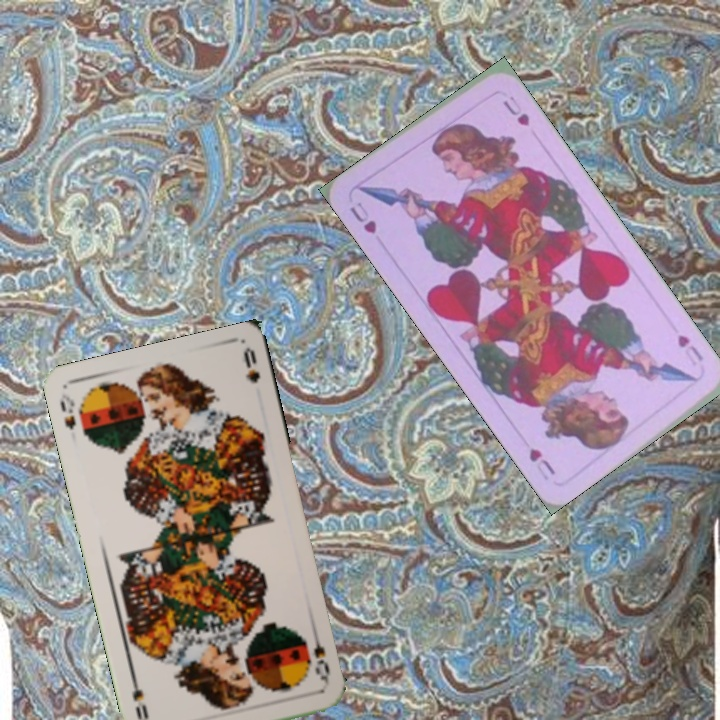HU: (345, 198, 380, 236), (673, 330, 706, 363)
SO: (308, 628, 333, 687), (55, 390, 79, 433)
